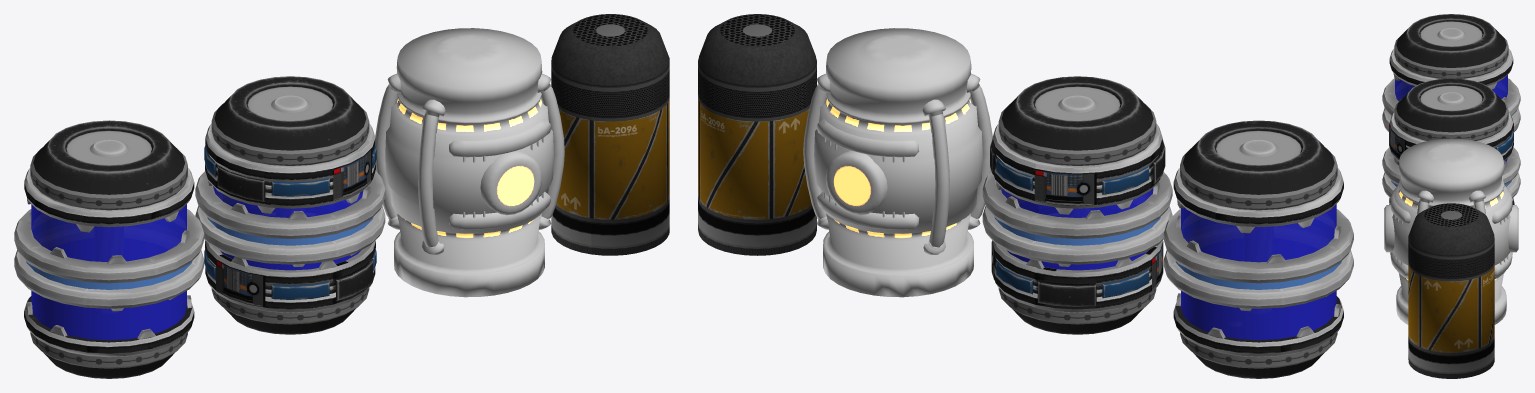
The model's file is barrel_3_4_export_2.fbx.
The picture shows the model from 3 angles, left to right: view 1: azimuth 30°, elevation 25°; view 2: azimuth 150°, elevation 25°; view 3: azimuth 270°, elevation 25°; orthographic projection. The views are drawn at different scales.
Visible parts, largest first — view 1: barrel_1, barrel_3_1, barrel_3_2, barrel_2; view 2: barrel_1, barrel_3_1, barrel_3_2, barrel_2; view 3: barrel_2, barrel_1, barrel_3_2, barrel_3_1.
Boxes of the visible parts, box(x1,y1,x2,y2) form: barrel_1: box(375, 28, 564, 297); barrel_3_1: box(195, 76, 385, 334); barrel_3_2: box(14, 120, 204, 378); barrel_2: box(551, 14, 669, 255); barrel_1: box(803, 28, 992, 297); barrel_3_1: box(982, 76, 1172, 334); barrel_3_2: box(1163, 120, 1353, 378); barrel_2: box(698, 14, 816, 255); barrel_2: box(1408, 203, 1494, 378); barrel_1: box(1384, 138, 1518, 324); barrel_3_2: box(1382, 14, 1520, 131); barrel_3_1: box(1382, 78, 1520, 204).
Bounding box in the file's own units: 996 × 327 × 258.
